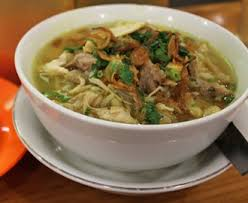soto: (15, 4, 248, 143)
